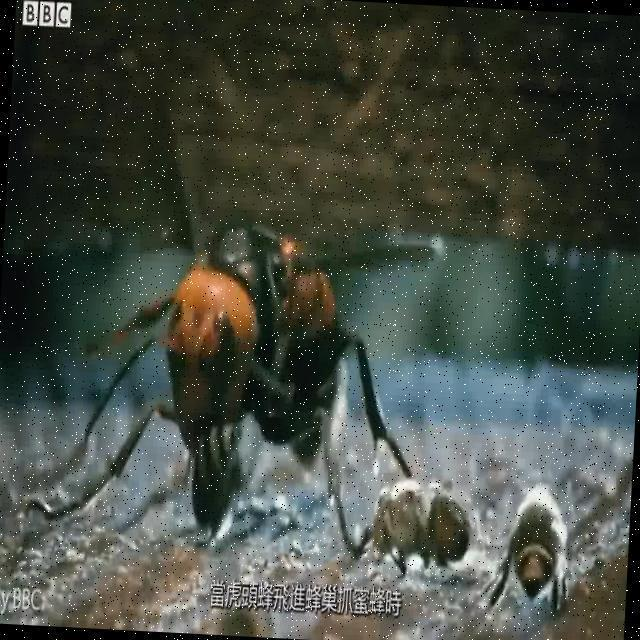Wasp: (37, 167, 411, 558)
